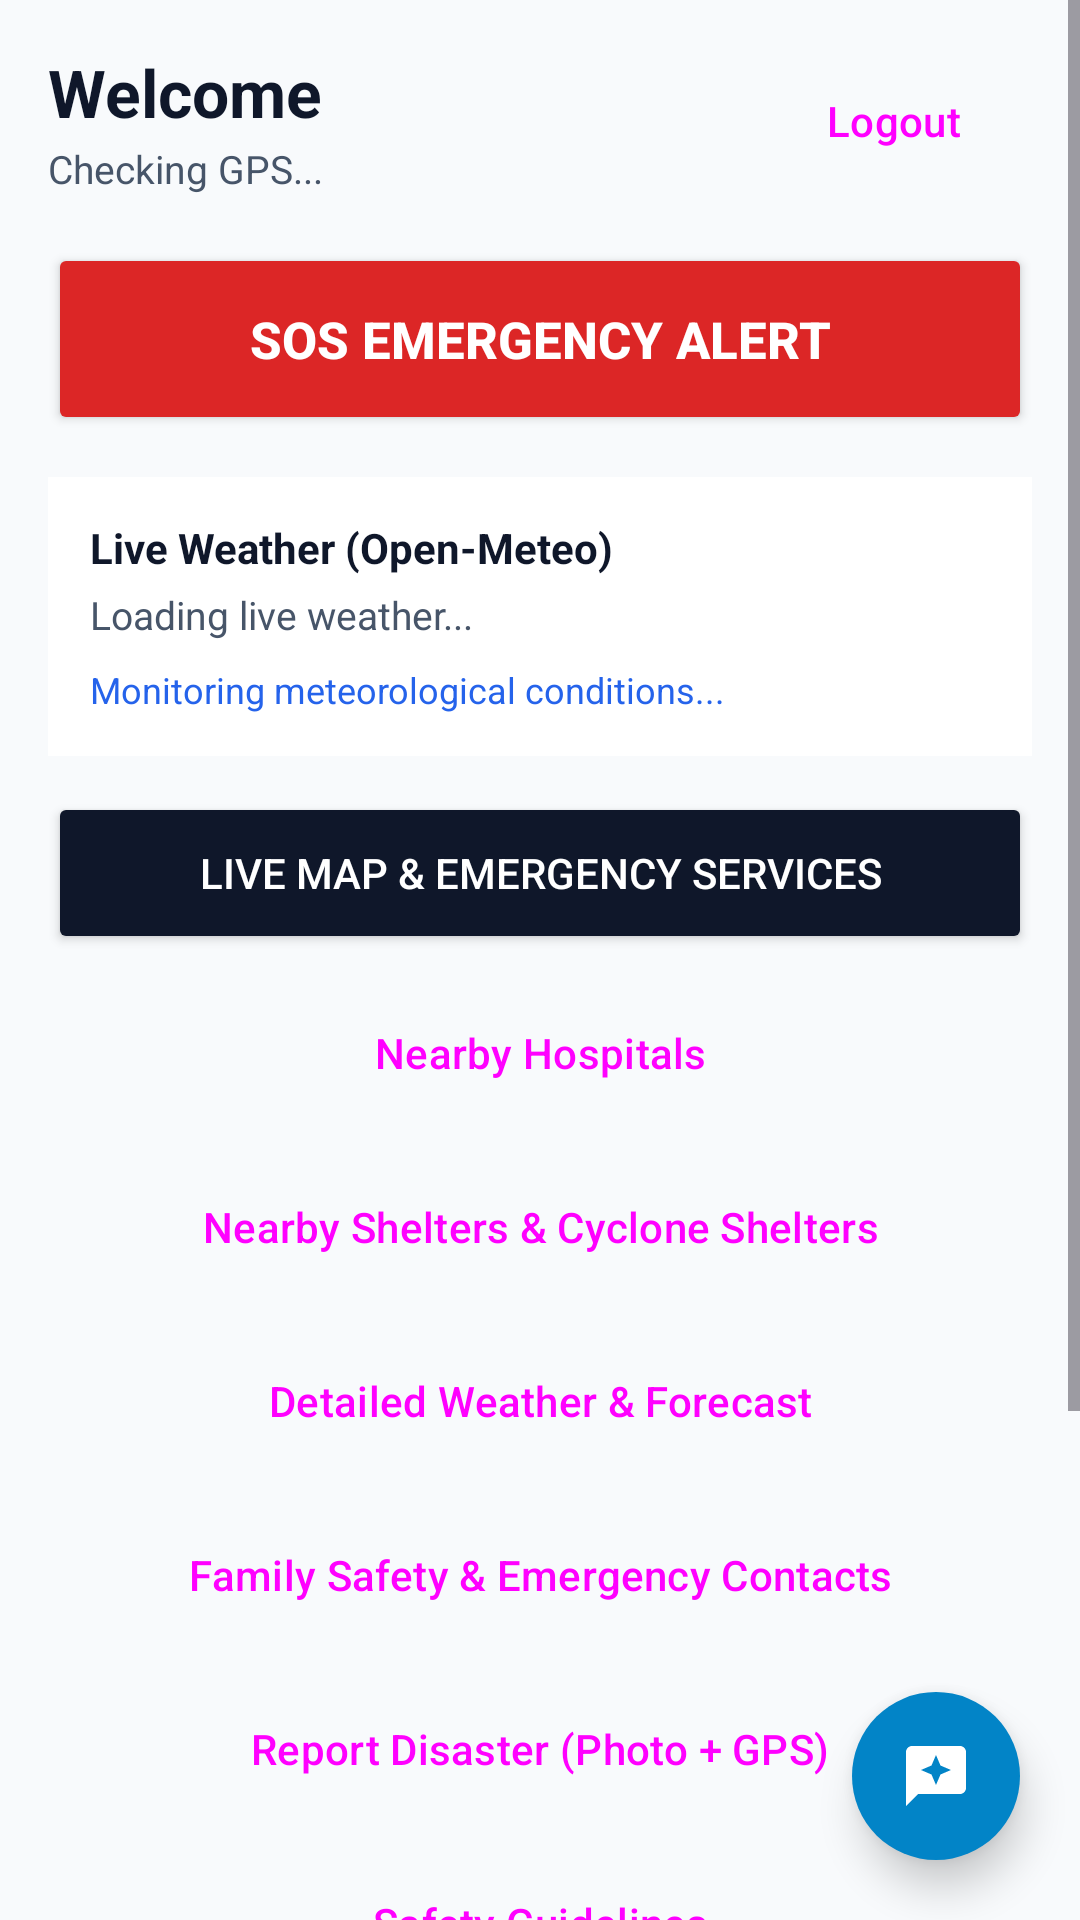

Point at icon controls on the screen. Image size 1080×1920, points as (x=x, y=y).
Open CycloneSafe AI Assistant: (x=936, y=1776)
